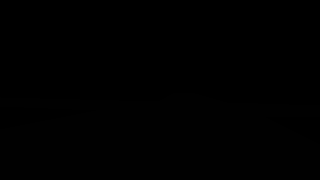go_ahead: (270, 22, 313, 55)
